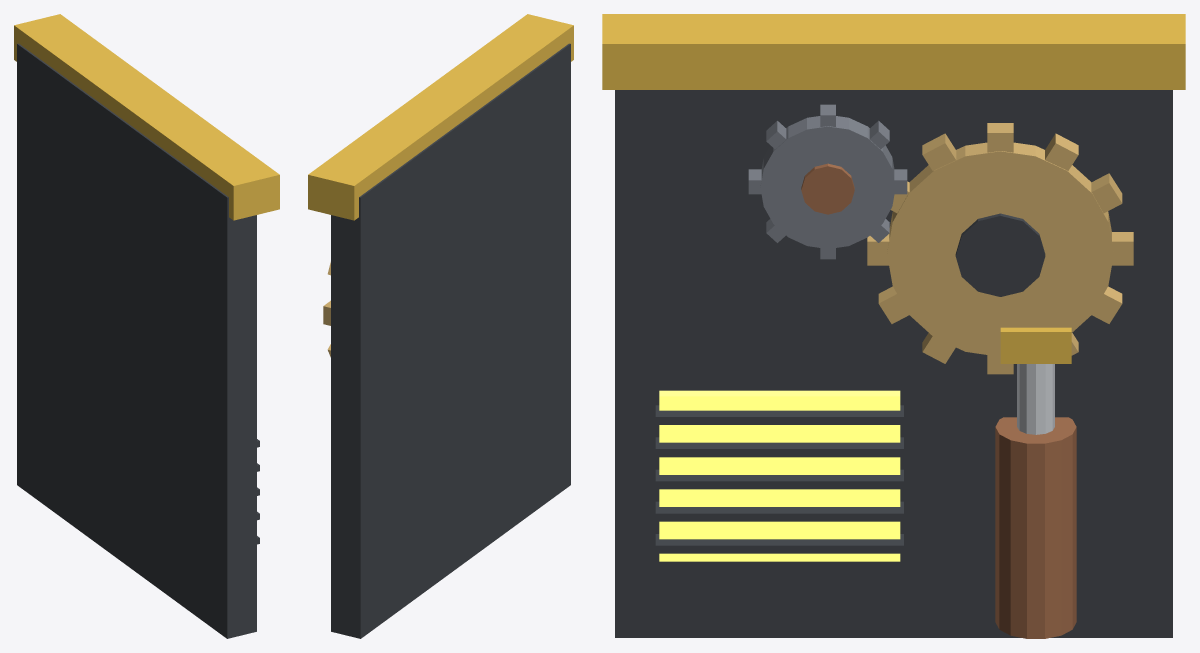
File: prop_wall_machinery.glb
The picture shows the model from 3 angles, left to right: view 1: azimuth 30°, elevation 25°; view 2: azimuth 150°, elevation 25°; view 3: azimuth 270°, elevation 25°; orthographic projection. The views are drawn at different scales.
Parts seen in each view (by area): view 1: MachineryBackFrame, MachineryTopHeader; view 2: MachineryBackFrame, MachineryTopHeader; view 3: MachineryBackFrame, MachineryTopHeader, GearLarge_Rim, FurnaceCoreGlow, PistonCylinderHousing, GearSmall_Rim, GearLarge, GearLarge_Hub, FurnaceGrate_3, FurnaceGrate_1, FurnaceGrate_2, FurnaceGrate_0 (+5 smaller).
Part boxes in pixels (x1,y1,x2,y2): MachineryBackFrame: (17,43,256,638); MachineryTopHeader: (14,14,279,220); MachineryBackFrame: (331,43,570,638); MachineryTopHeader: (308,14,573,220); MachineryBackFrame: (615,90,1172,637); MachineryTopHeader: (602,14,1185,89); GearLarge_Rim: (887,142,1113,356); FurnaceCoreGlow: (659,390,900,561); PistonCylinderHousing: (995,417,1076,638); GearSmall_Rim: (760,116,895,248); GearLarge: (867,123,1133,374); GearLarge_Hub: (955,213,1045,296); FurnaceGrate_3: (655,437,903,457); FurnaceGrate_1: (655,501,903,521); FurnaceGrate_2: (655,469,903,489); FurnaceGrate_0: (655,534,903,553).
Size of the model in its own units: 0.426 by 2.64 by 2.3.
